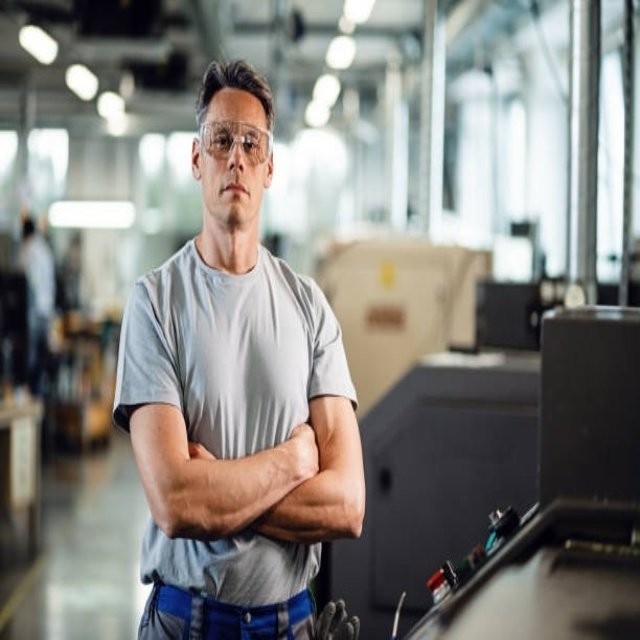Gafas: (199, 119, 273, 164)
Guantes: (312, 598, 360, 639)
Sin_mascara: (219, 174, 252, 210)
